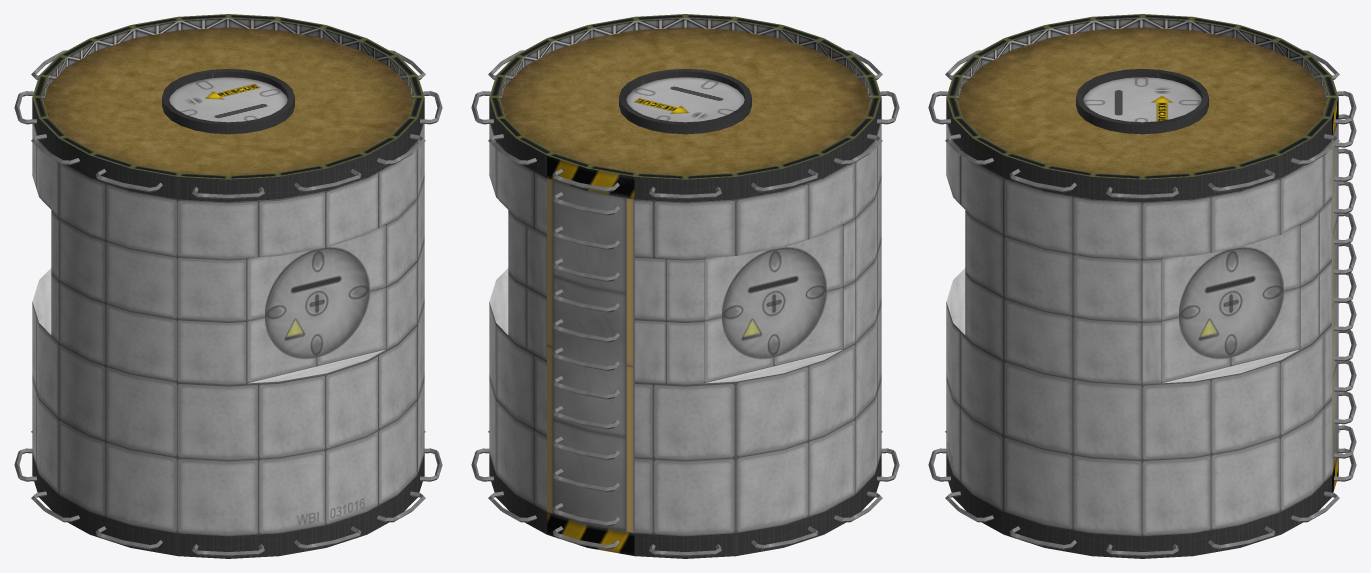
The model's file is StationHub.FBX.
3 views of the same model, side by side, from view 1: azimuth 30°, elevation 25°; view 2: azimuth 150°, elevation 25°; view 3: azimuth 270°, elevation 25° (orthographic).
Visible parts, largest first — view 1: MainBody, TopEndCap, TankSleeve001, TankSleeve002, CrewPort; view 2: MainBody, TopEndCap, TankSleeve001, TankSleeve002, CrewPort; view 3: MainBody, TopEndCap, TankSleeve001, TankSleeve002, CrewPort.
Part boxes in pixels (x1=…): MainBody: x1=32, y1=124, x2=424, y2=536; TopEndCap: x1=43, y1=27, x2=413, y2=175; TankSleeve001: x1=32, y1=14, x2=424, y2=202; TankSleeve002: x1=32, y1=454, x2=424, y2=558; CrewPort: x1=162, y1=68, x2=294, y2=134; MainBody: x1=489, y1=124, x2=881, y2=536; TopEndCap: x1=500, y1=27, x2=870, y2=175; TankSleeve001: x1=489, y1=14, x2=881, y2=202; TankSleeve002: x1=489, y1=453, x2=881, y2=558; CrewPort: x1=619, y1=68, x2=751, y2=134; MainBody: x1=946, y1=124, x2=1338, y2=536; TopEndCap: x1=957, y1=27, x2=1327, y2=175; TankSleeve001: x1=946, y1=14, x2=1338, y2=202; TankSleeve002: x1=946, y1=454, x2=1338, y2=558; CrewPort: x1=1076, y1=68, x2=1208, y2=134.
Size of what is drawn, in the model's own units: 2.05 by 2 by 2.05.
